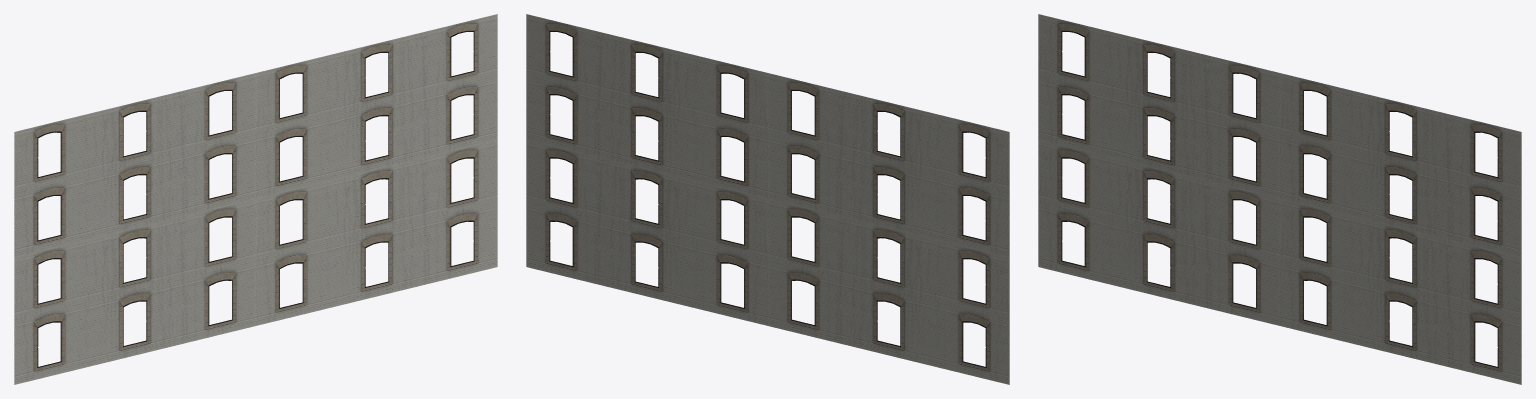
Rendered from LODPlane 2X2.fbx.
3 views of the same model, side by side, from view 1: azimuth 30°, elevation 25°; view 2: azimuth 150°, elevation 25°; view 3: azimuth 330°, elevation 25° (orthographic).
Visible parts, largest first — view 1: Plane.006; view 2: Plane.006; view 3: Plane.006.
Part boxes in pixels (x1,y1,x2,y2): Plane.006: [14, 14, 497, 384]; Plane.006: [526, 14, 1009, 384]; Plane.006: [1038, 14, 1521, 384].
Size of the model in its own units: 2120 by 1060 by 0.00111.
